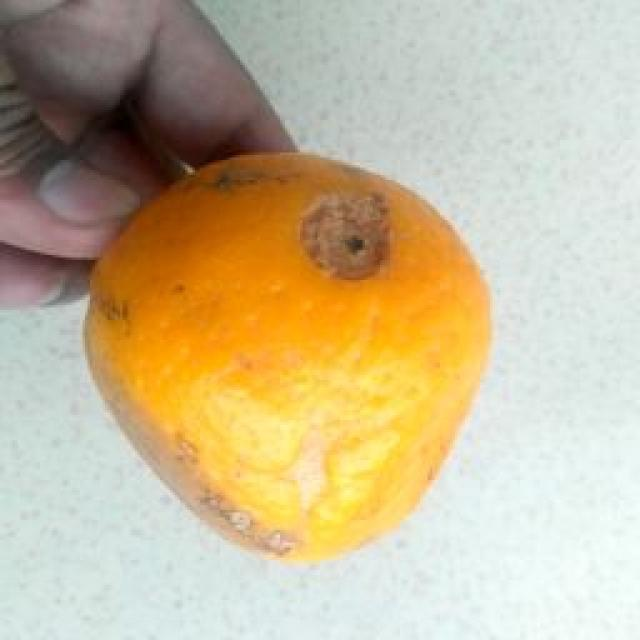Bad_Orange: (88, 155, 489, 559)
